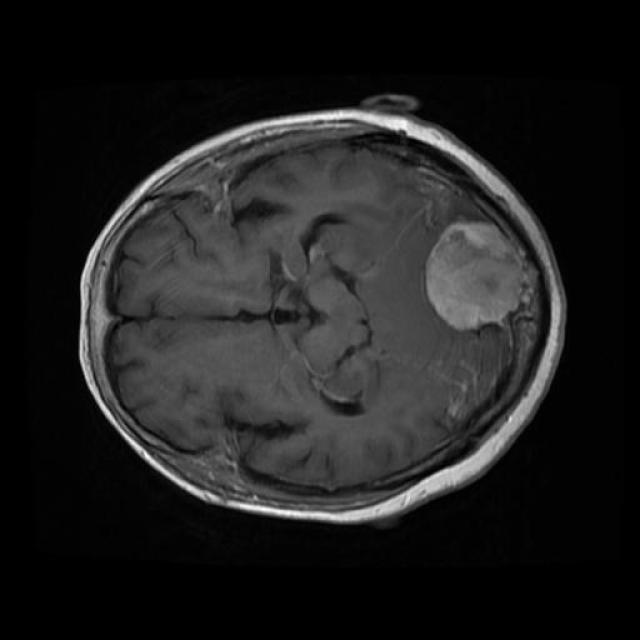Meningioma: (426, 222, 537, 330)
